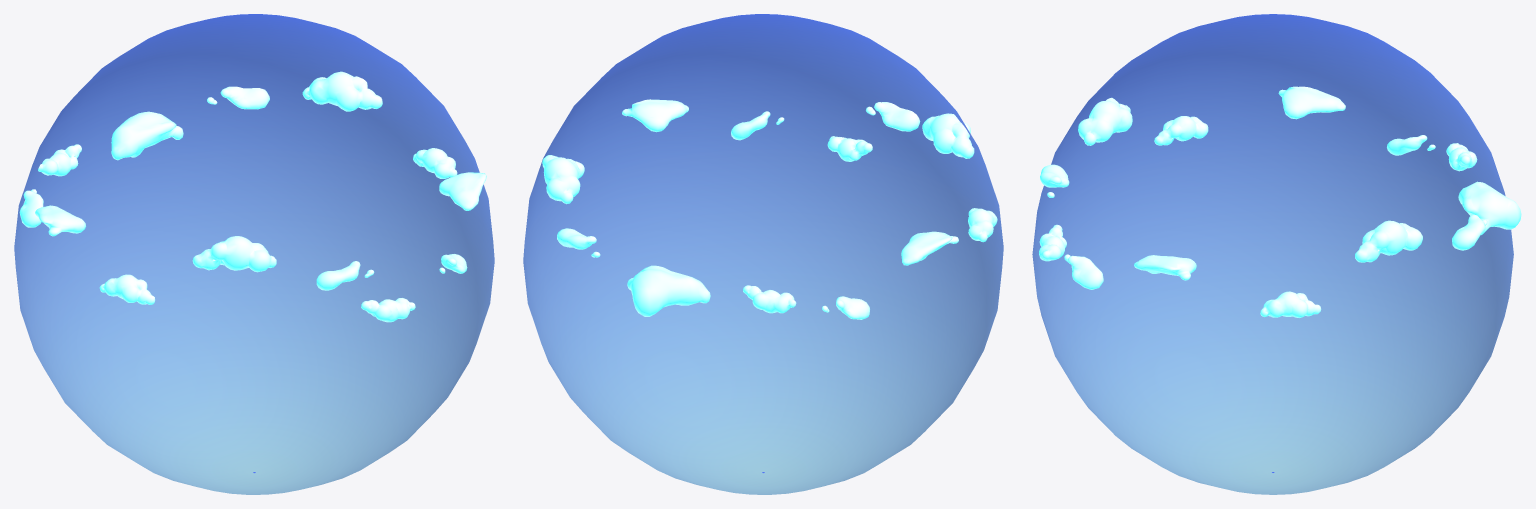
The picture shows the model from 3 angles, left to right: view 1: azimuth 30°, elevation 25°; view 2: azimuth 150°, elevation 25°; view 3: azimuth 270°, elevation 25°; orthographic projection.
Visible parts, largest first — view 1: Skybox, Cloud1, Cloud3, Cloud3.003, Cloud1.001, Cloud3.004, Cloud1.002, Cloud2, Cloud3.002, Cloud3.001, Cloud3.005, Cloud2.002 (+1 smaller); view 2: Skybox, Cloud1, Cloud3.003, Cloud3, Cloud1.001, Cloud1.002, Cloud2.002, Cloud3.005, Cloud3.002, Cloud3.004, Cloud2.003, Cloud2 (+1 smaller); view 3: Skybox, Cloud1, Cloud3, Cloud3.003, Cloud1.002, Cloud3.001, Cloud3.004, Cloud1.001, Cloud2.001, Cloud2, Cloud3.002, Cloud3.005 (+2 smaller).
Boxes of the visible parts, x1,y1,x2,y2 form: Skybox: (14,14,494,494); Cloud1: (111,111,183,160); Cloud3: (302,71,382,111); Cloud3.003: (192,236,276,272); Cloud1.001: (439,172,486,210); Cloud3.004: (99,274,155,304); Cloud1.002: (35,205,85,236); Cloud2: (207,86,269,109); Cloud3.002: (361,298,415,322); Cloud3.001: (413,148,457,178); Cloud3.005: (38,144,81,176); Cloud2.002: (316,261,374,290); Skybox: (523,14,1003,494); Cloud1: (627,265,710,316); Cloud3.003: (922,113,974,158); Cloud3: (542,155,580,204); Cloud1.001: (622,99,688,132); Cloud1.002: (901,231,958,265); Cloud2.002: (866,102,920,131); Cloud3.005: (743,285,796,313); Cloud3.002: (827,136,872,161); Cloud3.004: (968,208,997,242); Cloud2.003: (822,296,869,319); Cloud2: (557,228,600,257); Skybox: (1032,14,1513,494); Cloud1: (1458,181,1521,234); Cloud3: (1355,220,1422,262); Cloud3.003: (1078,97,1132,145); Cloud1.002: (1278,86,1345,119); Cloud3.001: (1260,291,1321,317); Cloud3.004: (1154,116,1208,145); Cloud1.001: (1134,255,1196,280); Cloud2.001: (1064,254,1103,289); Cloud2: (1452,214,1487,250); Cloud3.002: (1039,224,1066,261); Cloud3.005: (1446,143,1477,171).
Bounding box in the file's own units: 132 × 132 × 134.
Materials: 2 (1 with a texture image).
